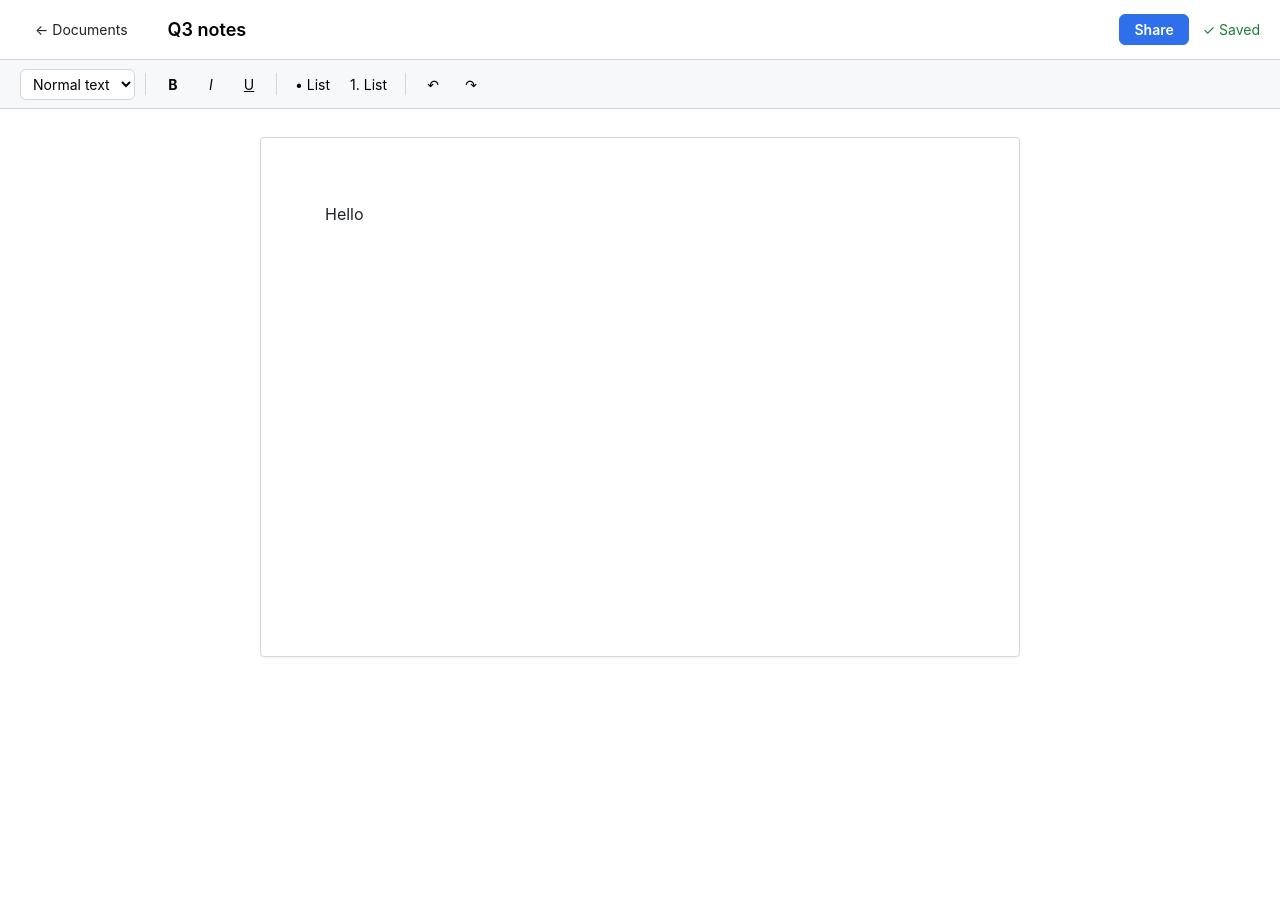
sharing in the editor › allows one sharing change at a time, so a slow response can't bring back someone removed
The image size is (1280, 900).
Click the button "Share" at (1154, 30), box [1120,14,1189,45]
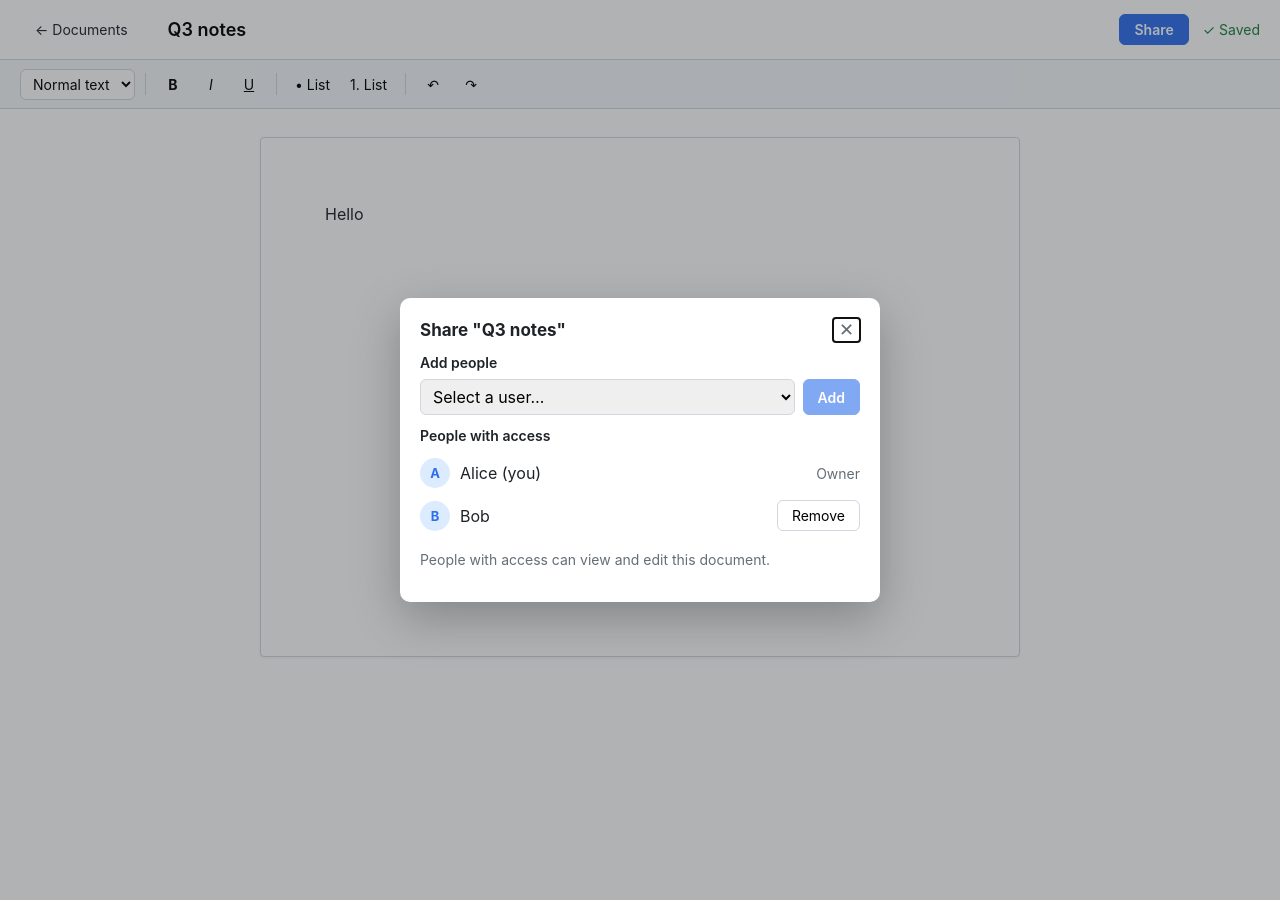
Now the list named "People with access" is shown, box [420,452,860,537]
Select "Carol" in the dropdown labelled "Add people" at (607, 397), box [420,379,794,415]
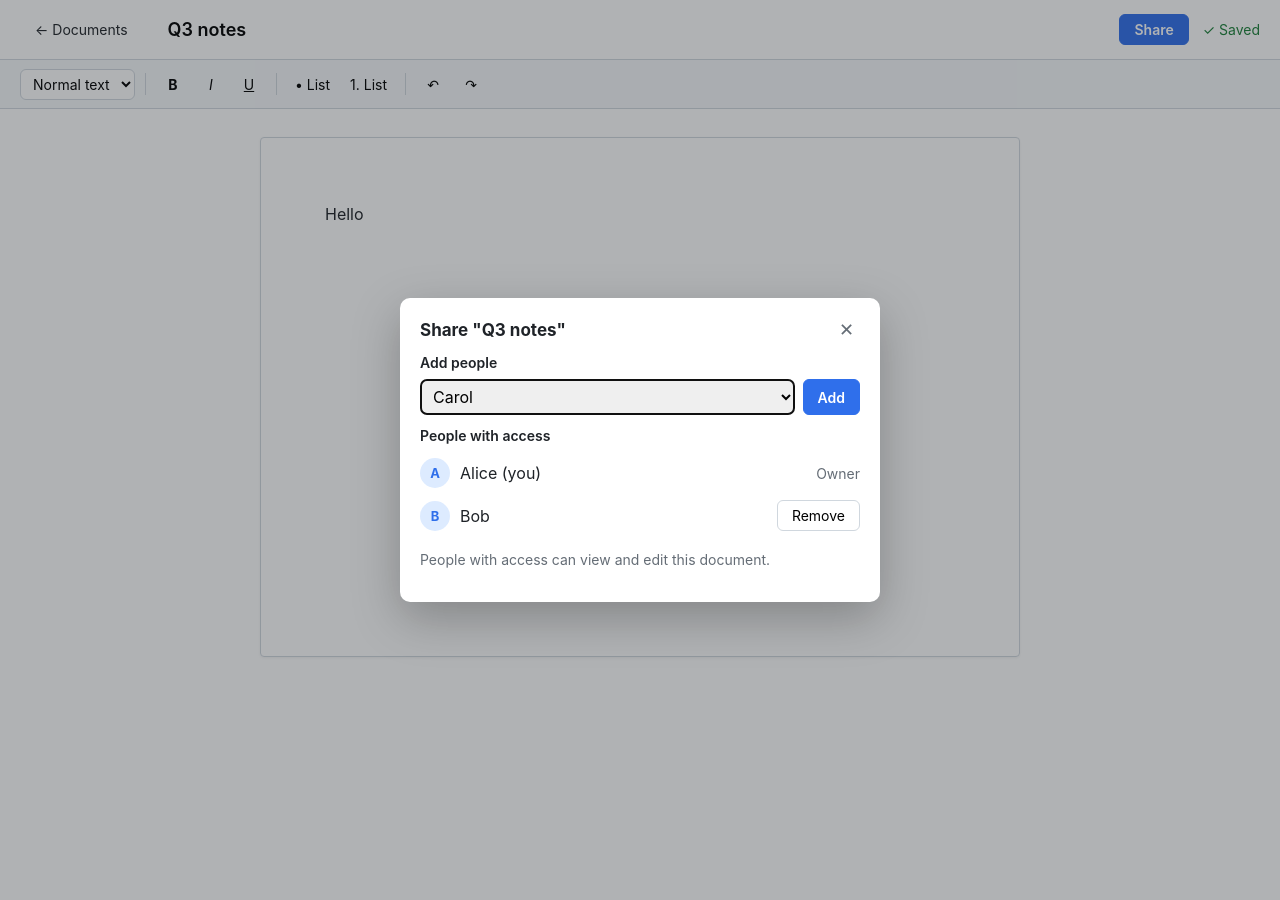
Click the button "Add" at (831, 397), box [802,379,860,415]
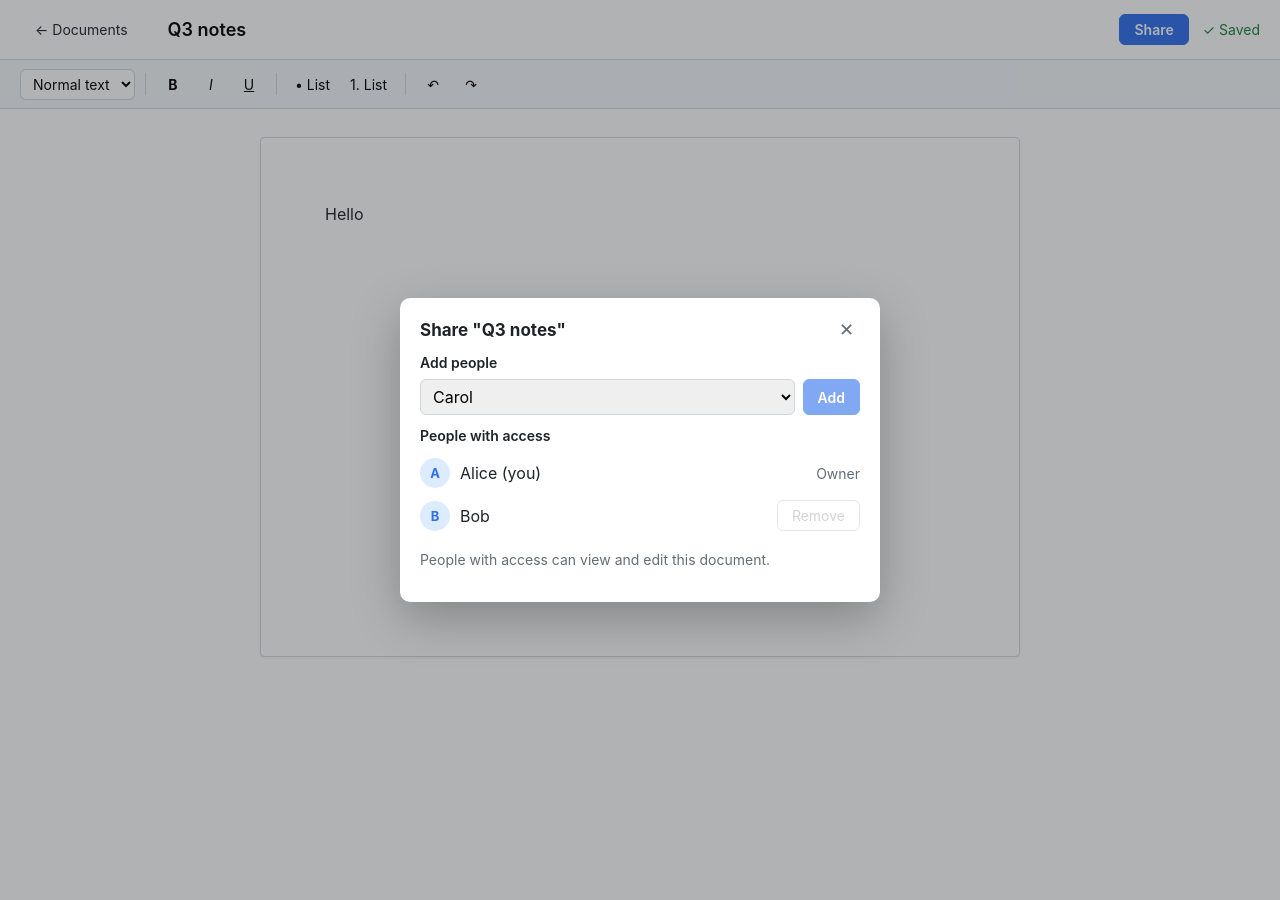
Now the button with aria-label "Remove Bob" is disabled, box [777,500,860,531]
Now the button "Add" is disabled, box [802,379,860,415]
